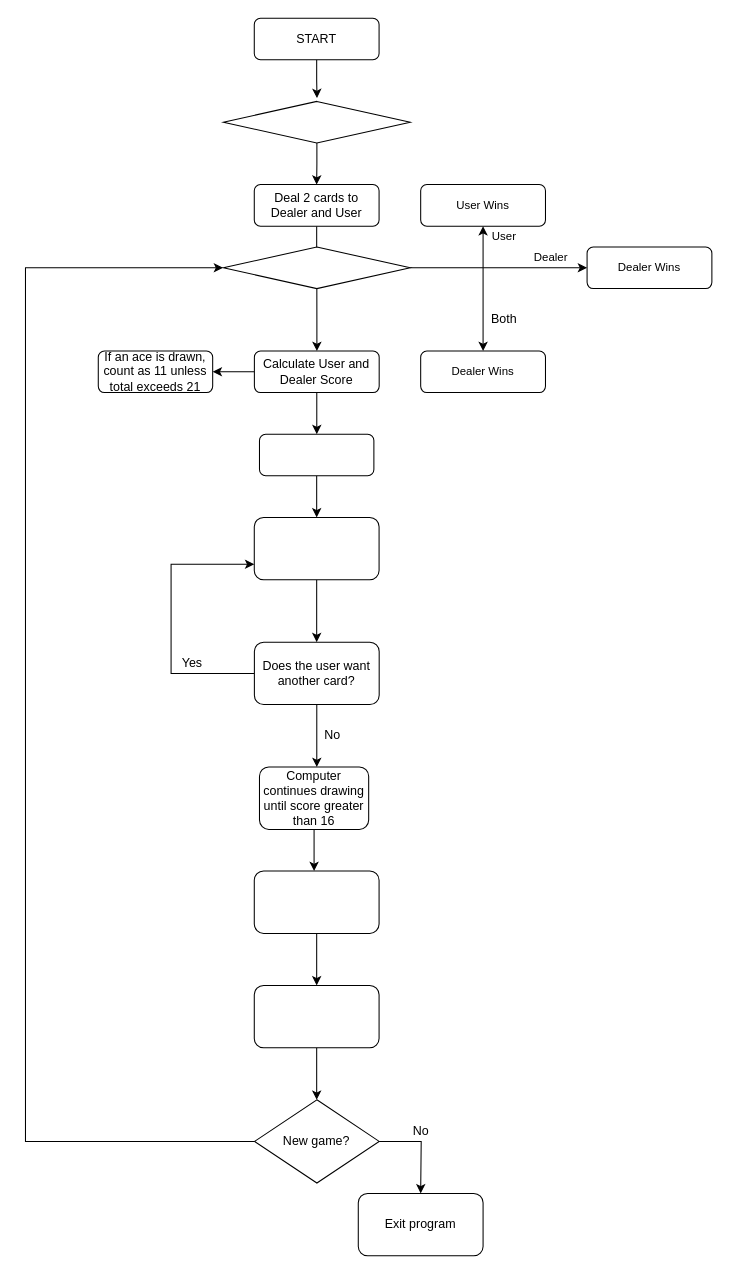
Image size: 730x1274. Some labels were removed from this diagram. Here are the shapes that lost their labels. From the top down, the centre of each, then its label:
At point (316, 121): "Does the User want to play a game?".
At point (316, 267): "Does the Dealer and the User have Blackjack?".
At point (316, 454): "Reveal Dealer first card".
At point (316, 548): "Game ends immediately if user score exceeds 21 or gets blackjack".
At point (316, 901): "Compare scores and determine winner".
At point (316, 1016): "Print final hands and scores".
